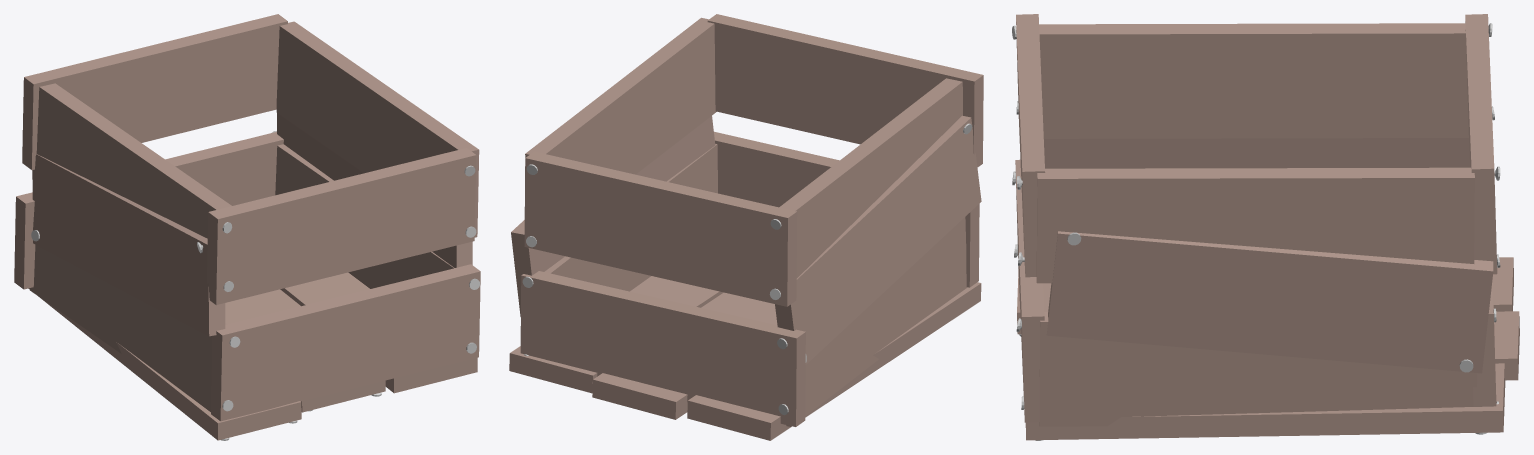
Rendered from crate2.glb.
3 views of the same model, side by side, from view 1: azimuth 30°, elevation 25°; view 2: azimuth 150°, elevation 25°; view 3: azimuth 270°, elevation 25° (orthographic). The views are drawn at different scales.
Parts seen in each view (by area): view 1: group143277477, group130255611, group292145349, group1445582452, group462432623, group476677283, group758927127, group1729037261, group1079540788, group1837320963, group1071646943, group2108672528 (+1 smaller); view 2: group292145349, group1729037261, group143277477, group1445582452, group462432623, group476677283, group758927127, group130255611, group1079540788, group879017828, group2108672528, group1071646943 (+1 smaller); view 3: group476677283, group2108672528, group462432623, group1837320963, group1445582452, group1071646943, group292145349, group143277477, group130255611, group879017828, group1729037261, group1079540788.
Part boxes in pixels (<box>): group143277477: <box>207,148,476,304</box>; group130255611: <box>211,264,480,421</box>; group292145349: <box>22,14,287,169</box>; group1445582452: <box>32,154,225,336</box>; group462432623: <box>276,21,479,237</box>; group476677283: <box>36,83,231,238</box>; group758927127: <box>29,244,227,411</box>; group1729037261: <box>14,131,283,289</box>; group1079540788: <box>28,288,301,440</box>; group1837320963: <box>275,144,454,288</box>; group1071646943: <box>280,272,477,393</box>; group2108672528: <box>277,113,472,267</box>; group292145349: <box>524,151,797,306</box>; group1729037261: <box>520,271,805,426</box>; group143277477: <box>707,14,983,167</box>; group1445582452: <box>775,115,981,364</box>; group462432623: <box>525,17,716,174</box>; group476677283: <box>779,78,962,278</box>; group758927127: <box>786,217,967,426</box>; group130255611: <box>714,131,979,287</box>; group1079540788: <box>687,282,981,440</box>; group879017828: <box>592,292,777,419</box>; group2108672528: <box>511,116,715,316</box>; group1071646943: <box>509,276,723,393</box>; group476677283: <box>1039,23,1468,138</box>; group2108672528: <box>1046,231,1493,373</box>; group462432623: <box>1036,167,1474,283</box>; group1837320963: <box>1039,312,1477,426</box>; group1445582452: <box>1044,138,1469,168</box>; group1071646943: <box>1025,363,1505,440</box>; group292145349: <box>1465,14,1497,274</box>; group143277477: <box>1016,14,1045,277</box>; group130255611: <box>1015,159,1044,422</box>; group879017828: <box>1494,311,1519,380</box>; group1729037261: <box>1473,280,1496,406</box>; group1079540788: <box>1017,257,1513,334</box>.
Bounding box in the file's own units: 0.6853 × 0.5208 × 0.8705.
